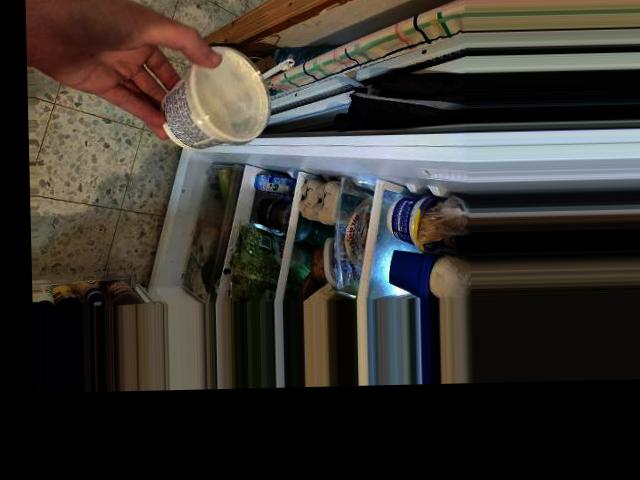cotage: (150, 34, 267, 149)
